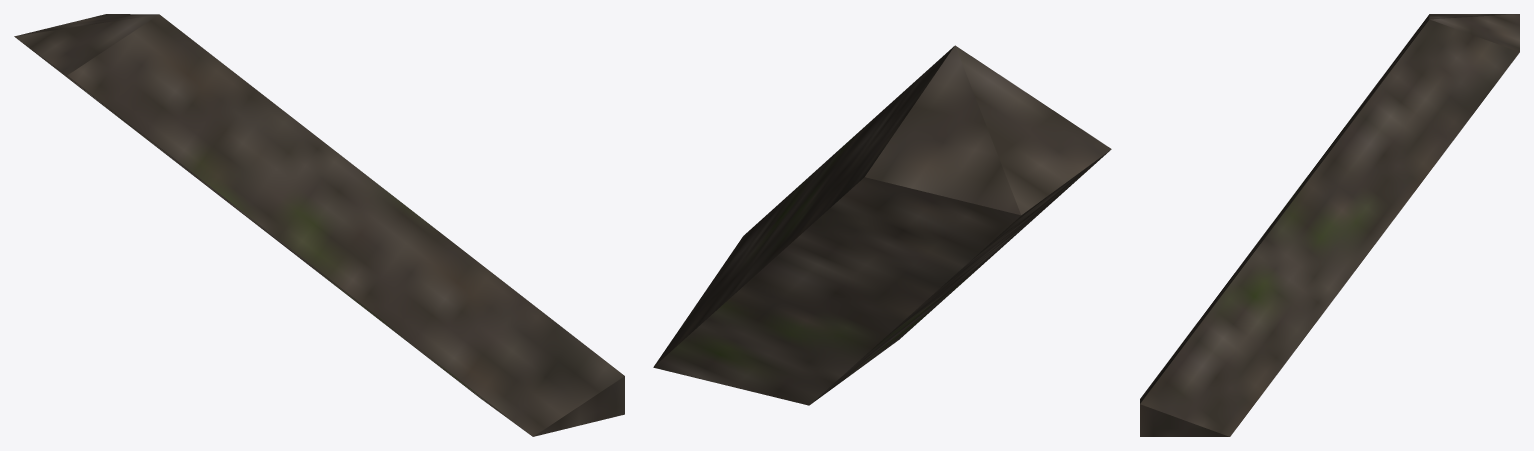
File: spruce_thin_branch_45_diagonal.obj
3 views of the same model, side by side, from view 1: azimuth 30°, elevation 25°; view 2: azimuth 150°, elevation 25°; view 3: azimuth 270°, elevation 25° (orthographic). The views are drawn at different scales.
Visible parts, largest first — view 1: cube_selection; view 2: cube_selection; view 3: cube_selection.
Part boxes in pixels (bbox=[...]): cube_selection: bbox=[14, 14, 624, 436]; cube_selection: bbox=[653, 45, 1111, 405]; cube_selection: bbox=[1140, 14, 1519, 436].
Bounding box in the file's own units: 1.31 × 1.12 × 1.31.
